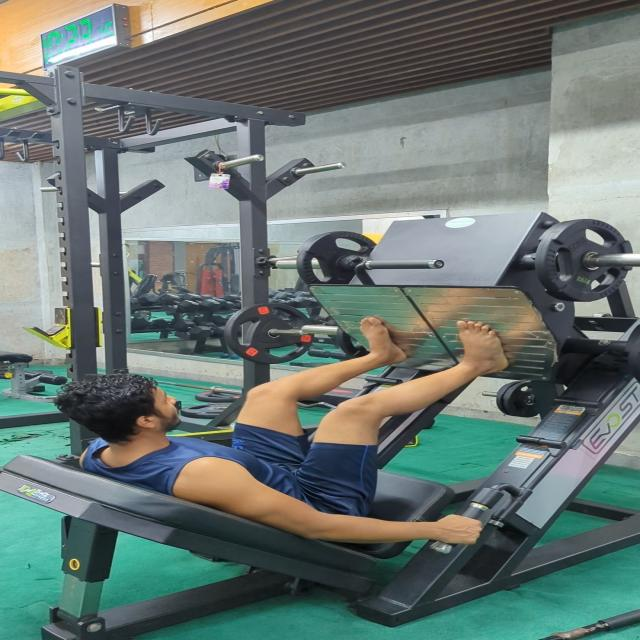Normal_LegPress: (54, 304, 528, 554)
